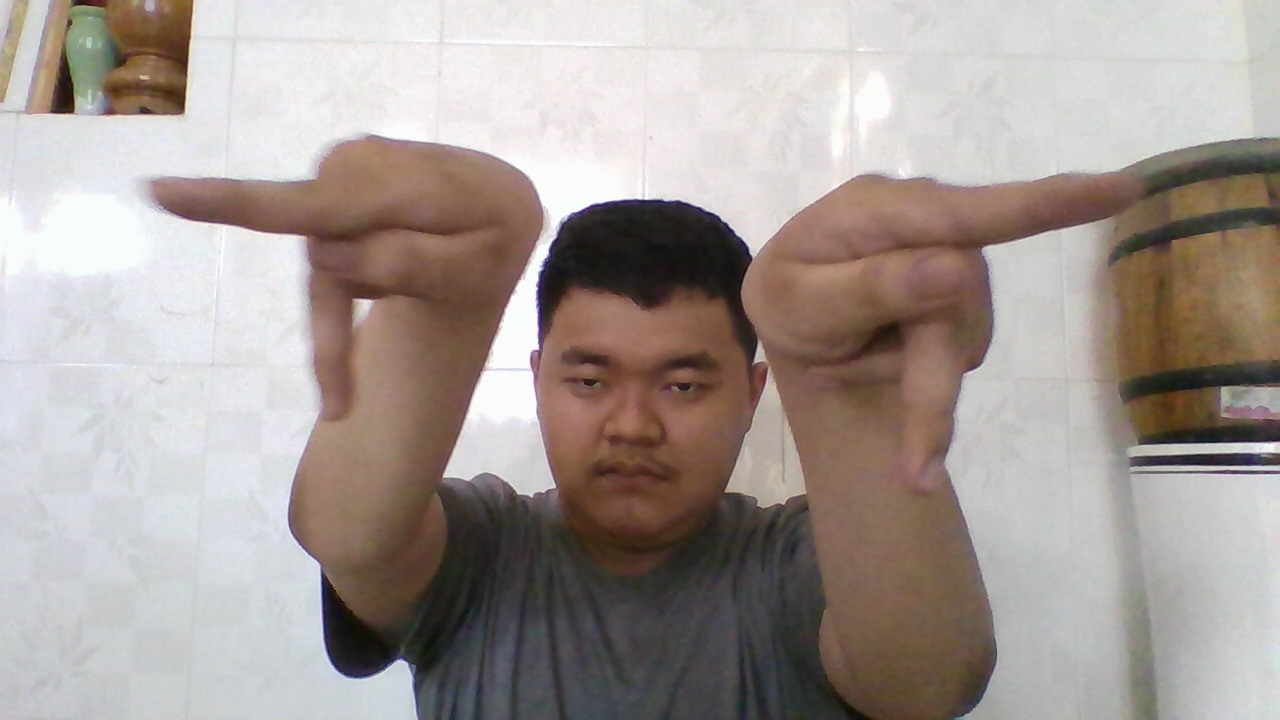P: (749, 173, 1149, 472), (156, 169, 506, 385)
